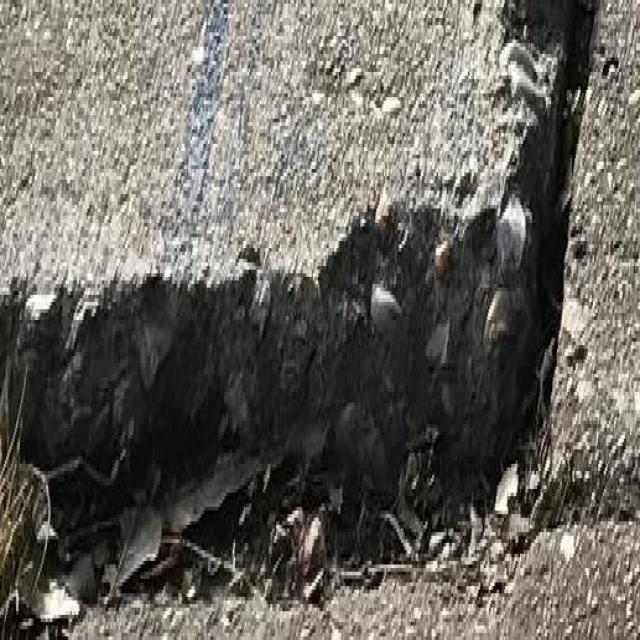hole: (1, 26, 604, 579)
